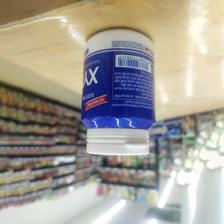Xylitol_blue: (81, 29, 154, 157)
